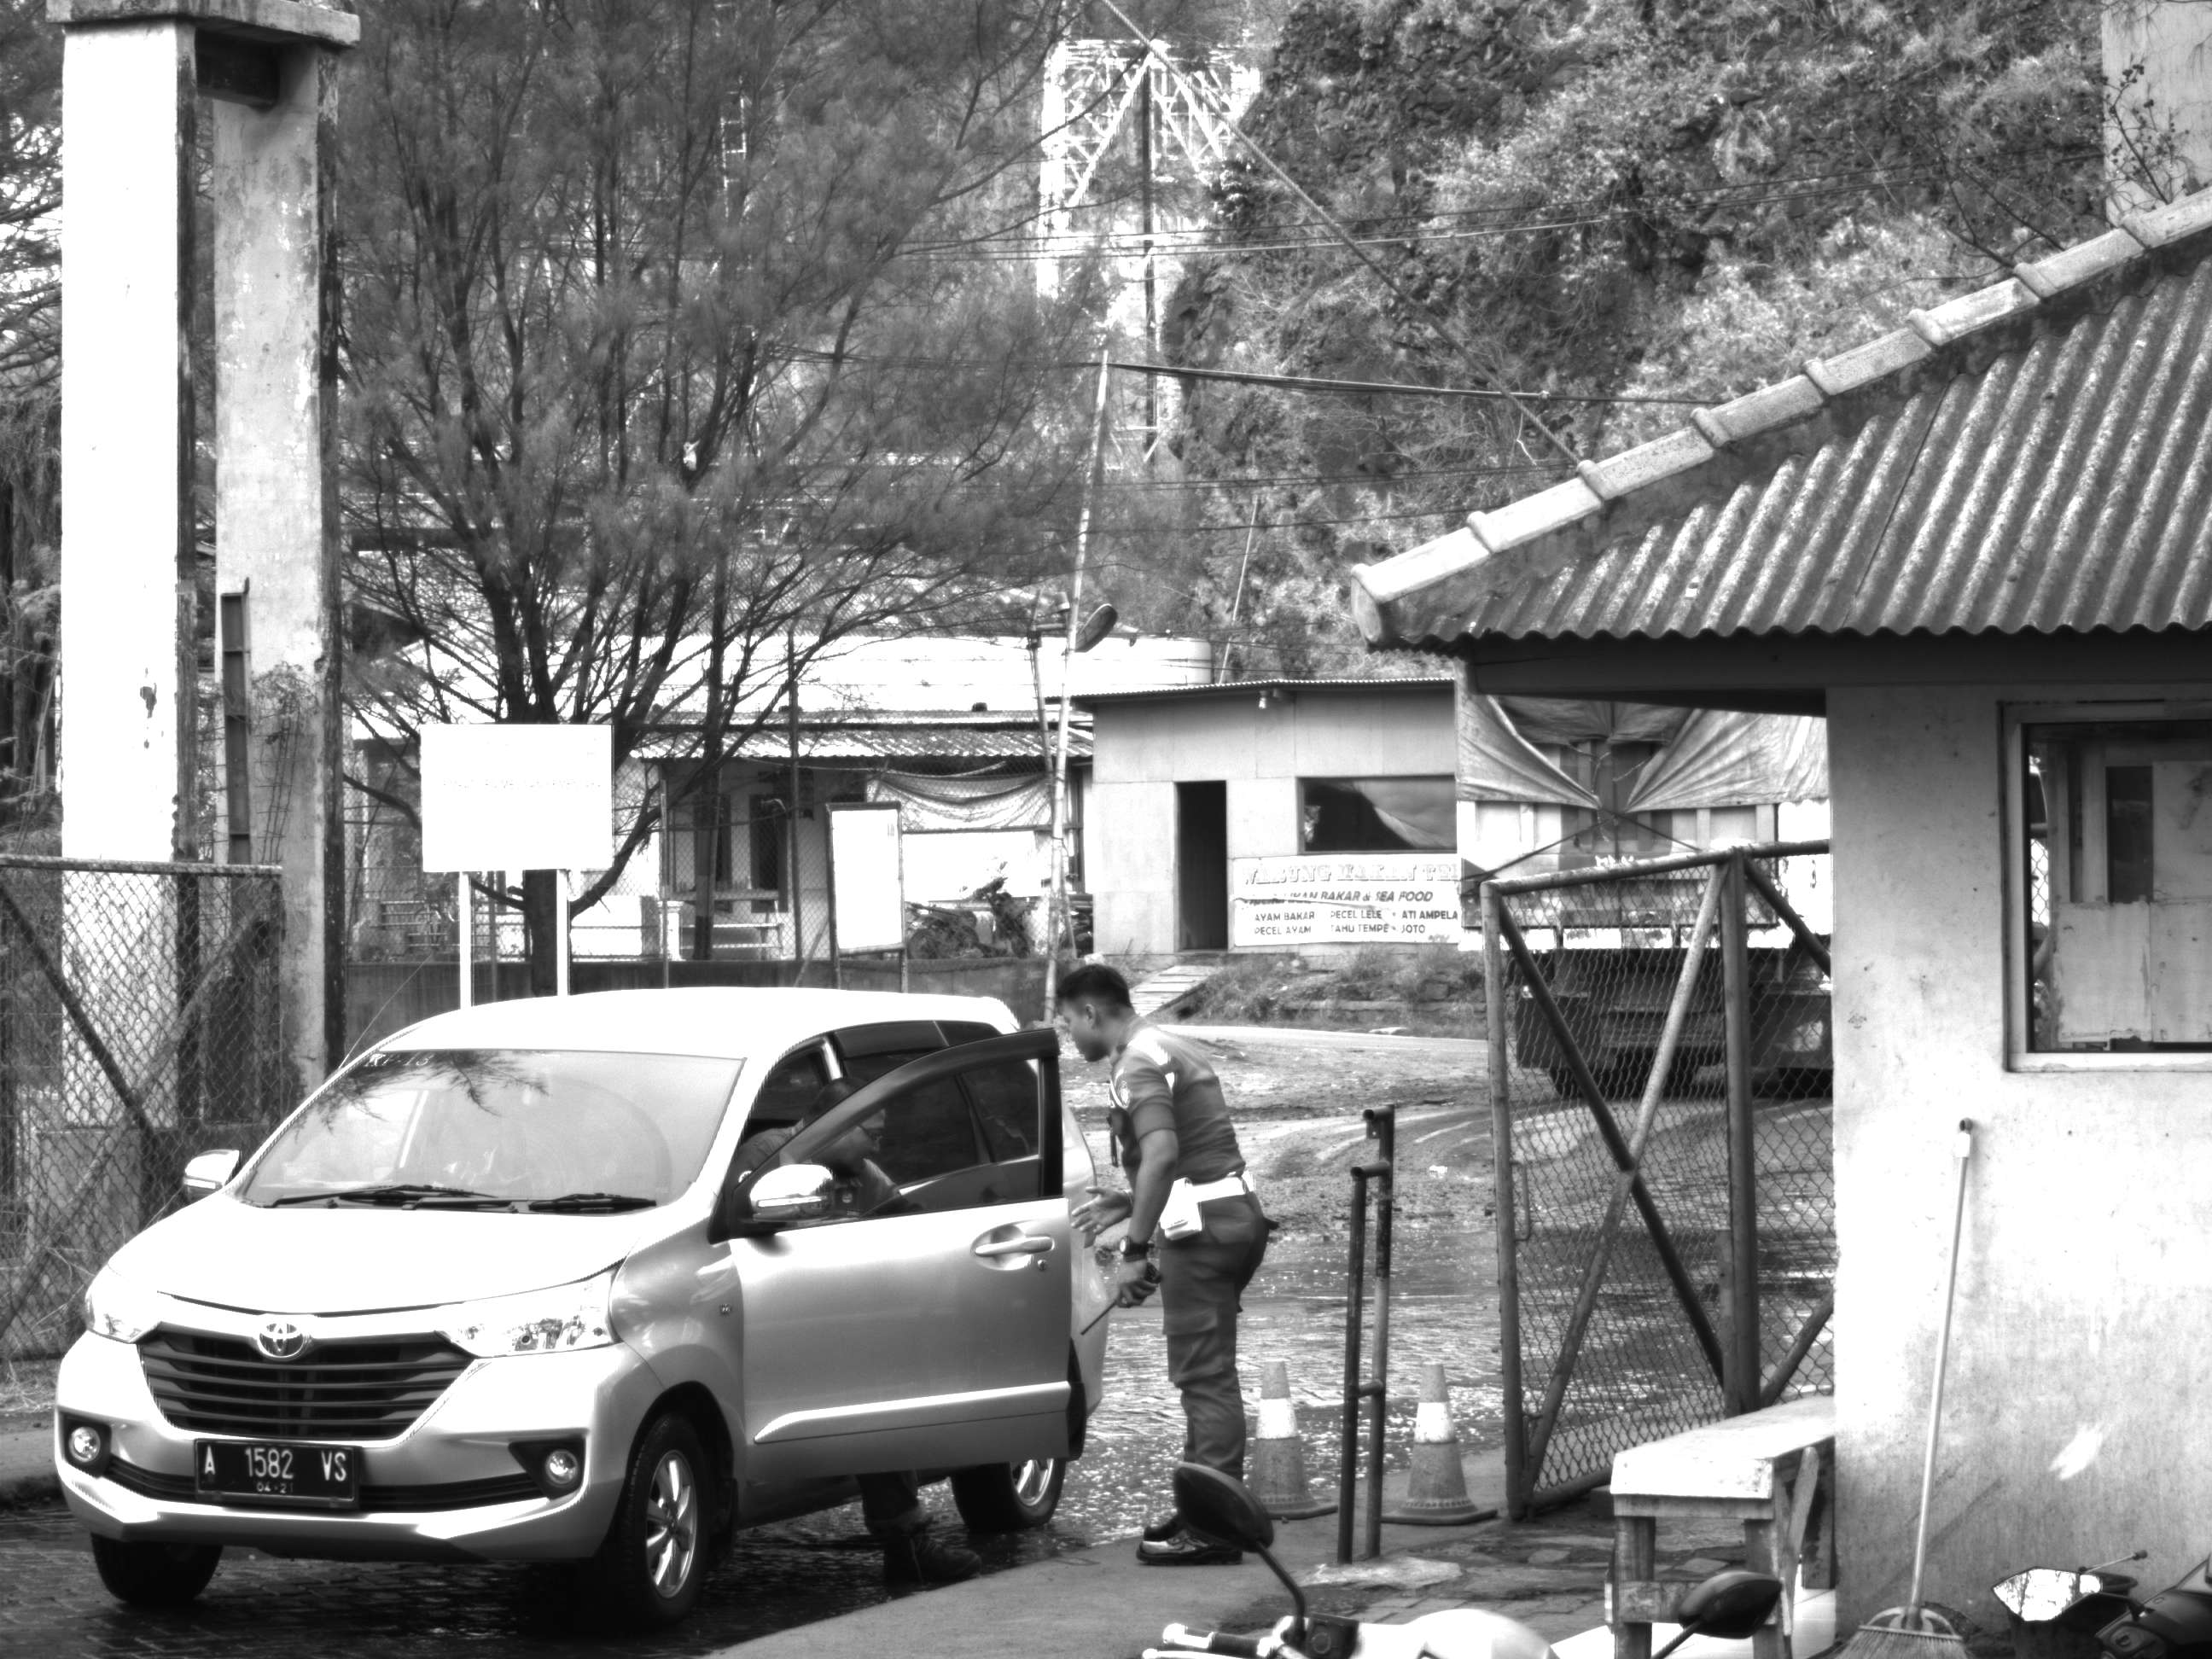day_small_front: (49, 980, 754, 1636)
plate: (196, 1439, 364, 1500)
